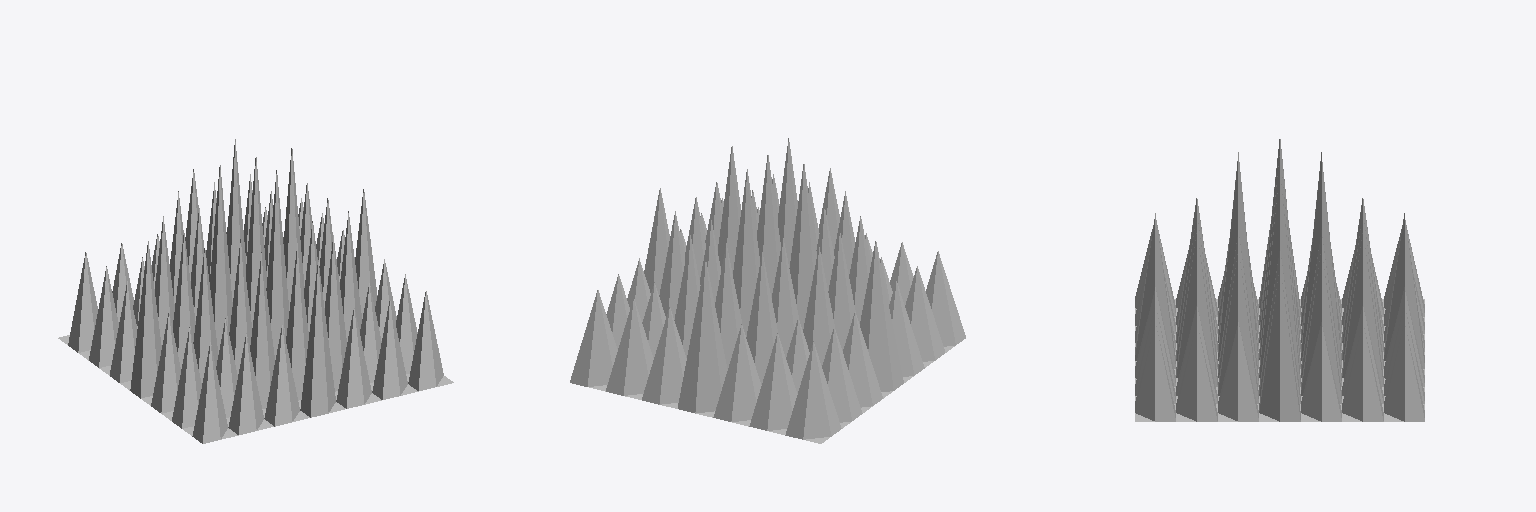
Rendered from spikesobjobj.obj.
The picture shows the model from 3 angles: view 1: azimuth 30°, elevation 25°; view 2: azimuth 150°, elevation 25°; view 3: azimuth 270°, elevation 25°; orthographic projection.
Parts seen in each view (by area): view 1: Plane.001; view 2: Plane.001; view 3: Plane.001.
Part boxes in pixels (x1,y1,x2,y2): Plane.001: (58,139,453,443); Plane.001: (570,138,965,443); Plane.001: (1135,139,1424,421).
Size of the model in its own units: 6.29 by 4.99 by 6.29.